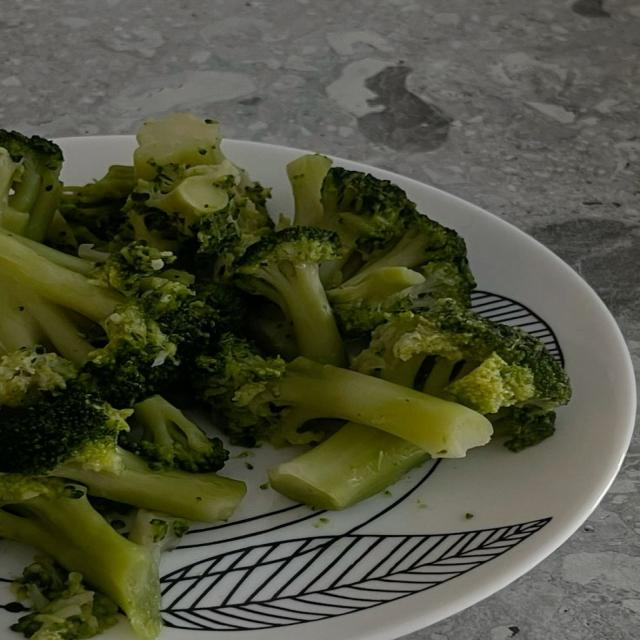broccoli: (0, 234, 214, 407), (198, 336, 492, 457), (0, 383, 246, 521), (352, 299, 570, 450), (0, 473, 161, 639), (120, 114, 273, 279), (327, 211, 474, 337), (287, 155, 415, 285), (234, 226, 346, 365), (11, 556, 119, 639), (120, 396, 228, 472), (48, 165, 136, 249), (0, 130, 63, 241), (0, 346, 78, 407)
